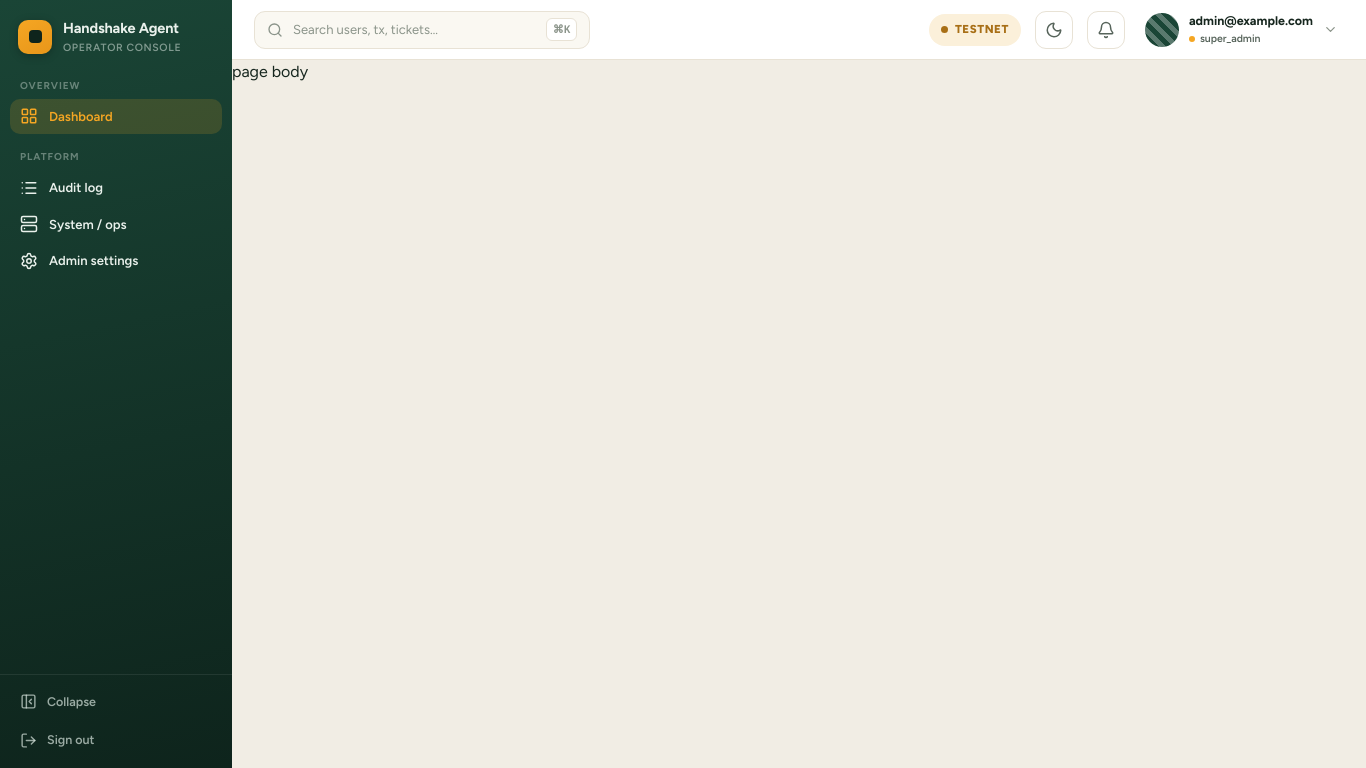
Scenario: AppShell account menu (honest role display, no view-as) › shows the operator's real role on the account pill and offers no view-as switcher
The image size is (1366, 768).
What coordinates should you click on to do the following:
click the button with aria-label "Account menu"
I would click on:
 (1242, 30)
Its box is [1141,8,1344,50].
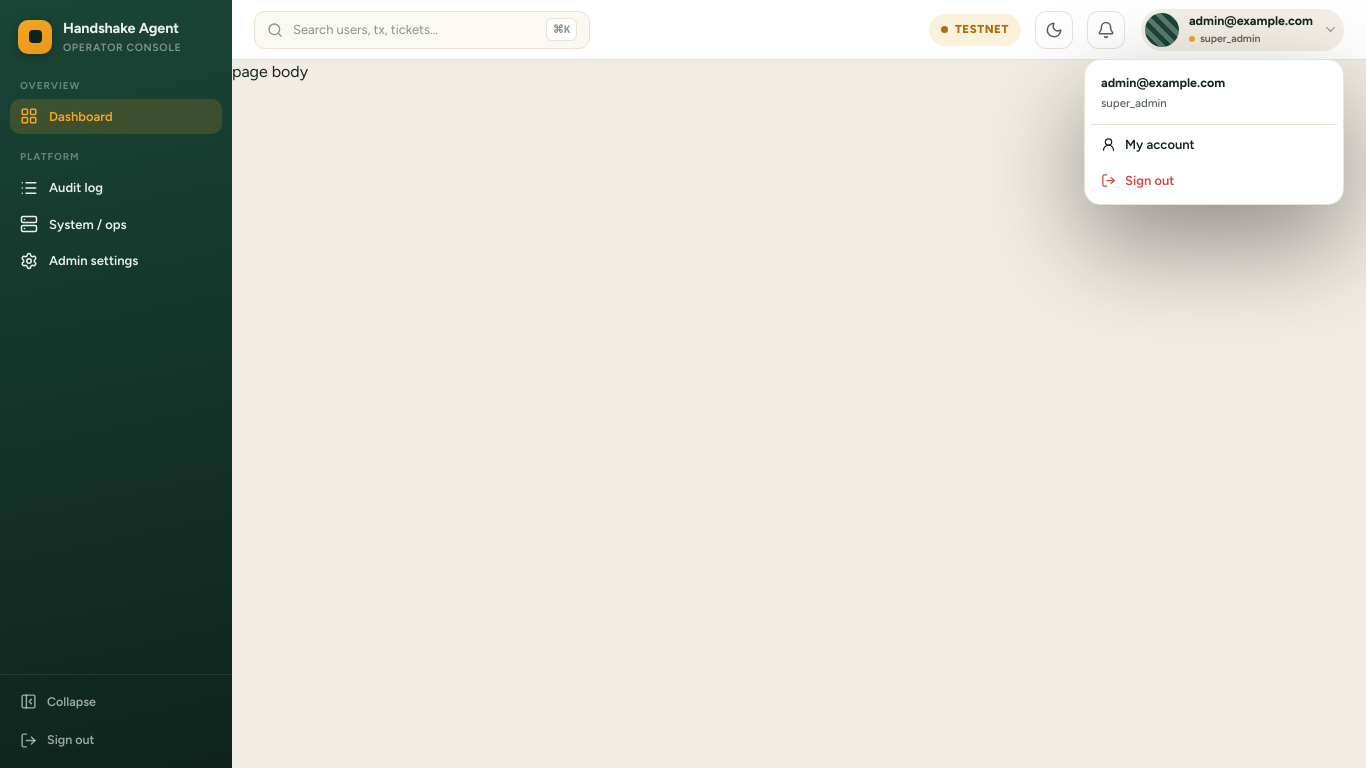
Check: the text "super_admin" in the row of "Operator Console" is shown, box [1200,32,1260,45]
Check: the menu item "Sign out" is shown, box [1101,172,1174,188]
